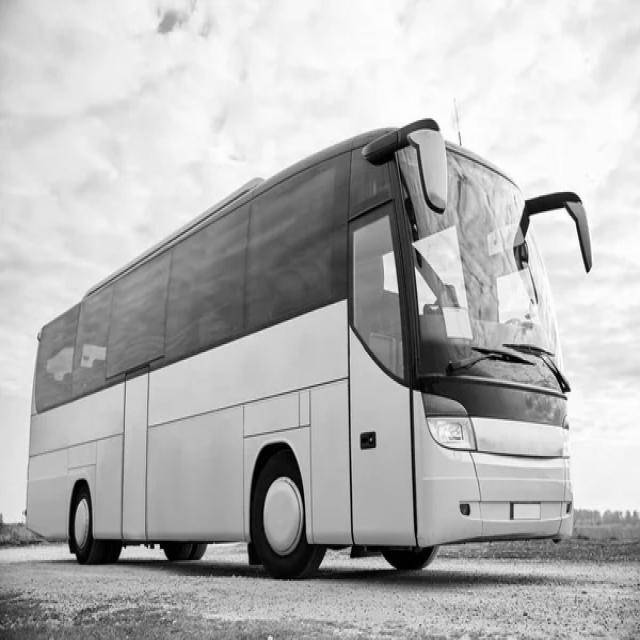Bus: (26, 120, 591, 580)
